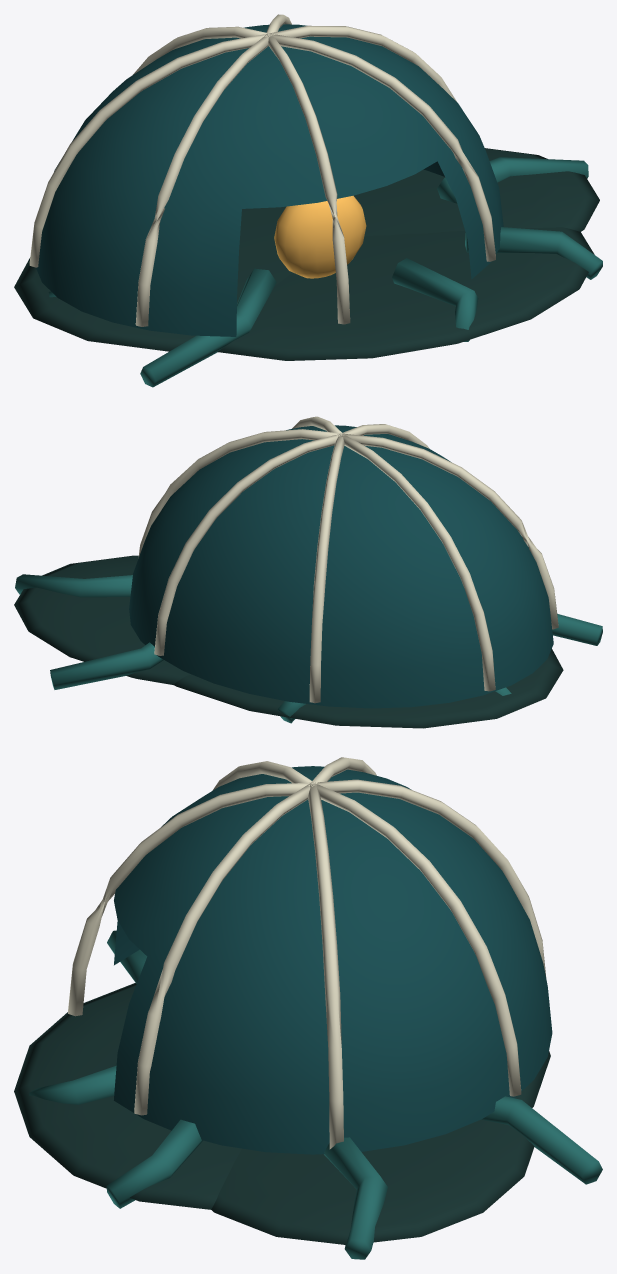
The model's file is res_shelter_cluster_a.obj.
3 views of the same model, one above another, from view 1: azimuth 30°, elevation 25°; view 2: azimuth 150°, elevation 25°; view 3: azimuth 270°, elevation 25° (orthographic). The views are drawn at different scales.
Parts seen in each view (by area): view 1: inhabited_shell, irregular_anchoring_lobe.002, irregular_anchoring_lobe.001, irregular_anchoring_lobe, warm_occupied_cavity, growth_seam.003, growth_seam.006, anchoring_root.004, growth_seam.004, growth_seam.005, anchoring_root.005, anchoring_root.006 (+3 smaller); view 2: inhabited_shell, irregular_anchoring_lobe.001, irregular_anchoring_lobe, growth_seam.003, growth_seam.001, growth_seam.002, growth_seam.004, anchoring_root.001, growth_seam, anchoring_root, anchoring_root.004, growth_seam.005 (+1 smaller); view 3: inhabited_shell, irregular_anchoring_lobe.001, irregular_anchoring_lobe.002, growth_seam, growth_seam.001, growth_seam.006, growth_seam.005, anchoring_root, growth_seam.002, anchoring_root.001, anchoring_root.006, anchoring_root.005 (+2 smaller).
Part boxes in pixels (<box>): inhabited_shell: <box>36,24,503,336</box>; irregular_anchoring_lobe.002: <box>217,227,594,360</box>; irregular_anchoring_lobe.001: <box>354,148,599,236</box>; irregular_anchoring_lobe: <box>14,206,293,351</box>; warm_occupied_cavity: <box>274,195,366,278</box>; growth_seam.003: <box>29,33,269,267</box>; growth_seam.006: <box>269,33,495,261</box>; anchoring_root.004: <box>140,268,276,387</box>; growth_seam.004: <box>135,34,270,326</box>; growth_seam.005: <box>267,34,350,324</box>; anchoring_root.005: <box>392,258,478,341</box>; anchoring_root.006: <box>465,227,602,279</box>; inhabited_shell: <box>129,425,553,708</box>; irregular_anchoring_lobe.001: <box>14,555,190,685</box>; irregular_anchoring_lobe: <box>173,649,563,728</box>; growth_seam.003: <box>340,434,495,691</box>; growth_seam.001: <box>154,434,341,655</box>; growth_seam.002: <box>309,434,344,703</box>; growth_seam.004: <box>342,433,558,629</box>; anchoring_root.001: <box>50,642,163,689</box>; growth_seam: <box>138,429,341,557</box>; anchoring_root: <box>15,574,132,597</box>; anchoring_root.004: <box>552,614,602,645</box>; growth_seam.005: <box>340,424,429,448</box>; inhabited_shell: <box>114,766,552,1154</box>; irregular_anchoring_lobe.001: <box>211,1119,534,1244</box>; irregular_anchoring_lobe.002: <box>14,983,241,1209</box>; growth_seam: <box>308,784,343,1149</box>; growth_seam.001: <box>312,783,521,1096</box>; growth_seam.006: <box>134,783,314,1115</box>; growth_seam.005: <box>68,782,312,1016</box>; anchoring_root: <box>324,1137,387,1259</box>; growth_seam.002: <box>312,779,546,977</box>; anchoring_root.001: <box>481,1096,602,1184</box>; anchoring_root.006: <box>106,1119,203,1208</box>; anchoring_root.005: <box>29,1065,116,1104</box>.
Bounding box in the file's own units: 3.22 × 1.34 × 2.46.
